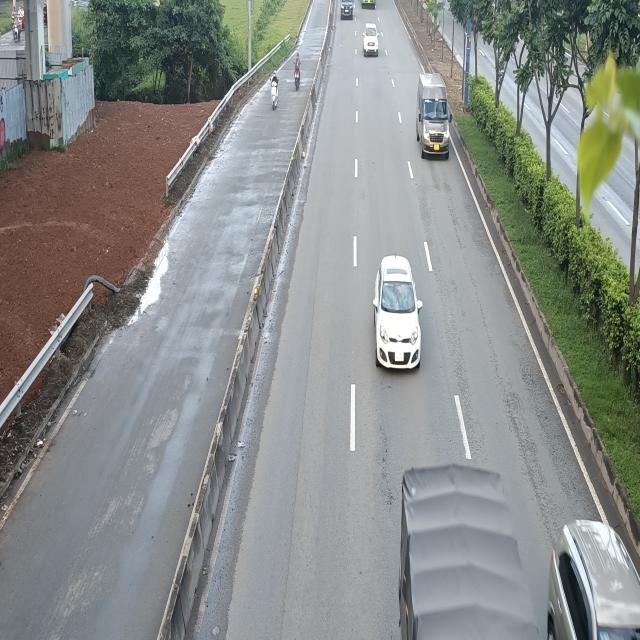car: (376, 254, 424, 372)
van: (417, 75, 452, 161)
